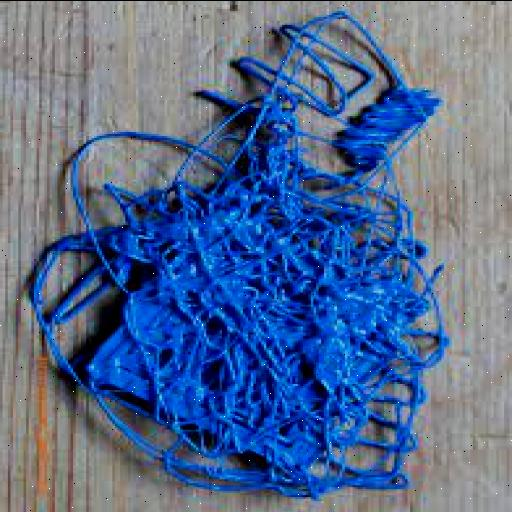spaghetti: (54, 74, 478, 482)
